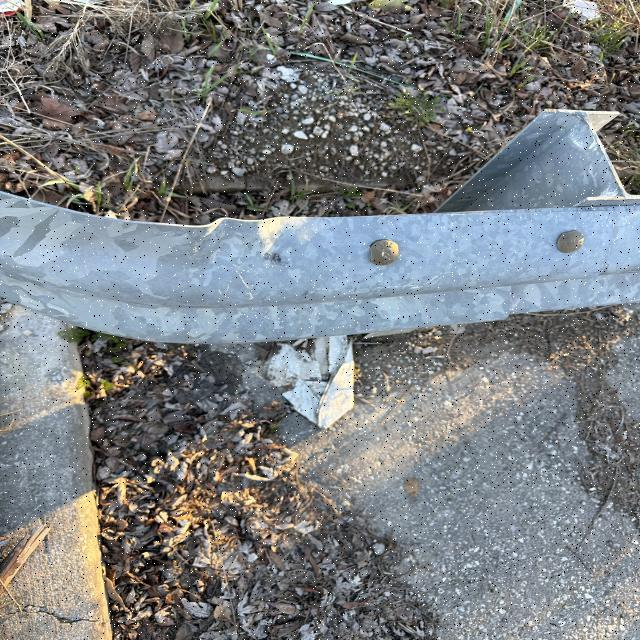Guard rail: (40, 140, 630, 333)
